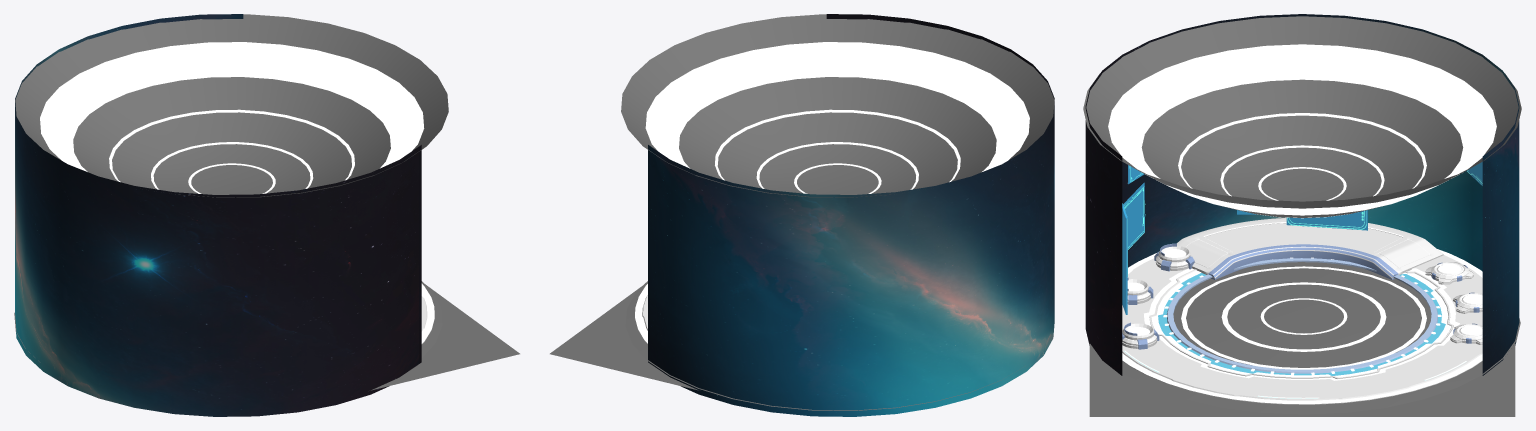
Rendered from hall.gltf.
3 renders of one model, left to right at view 1: azimuth 30°, elevation 25°; view 2: azimuth 150°, elevation 25°; view 3: azimuth 270°, elevation 25°, orthographic.
Parts seen in each view (by area): view 1: 柱体.004, 柱体.005, 柱体, 柱体.006, FloorTile_Side; view 2: 柱体.004, 柱体.005, 柱体, 柱体.006, FloorTile_Side; view 3: 柱体.005, 柱体.004, 柱体.006, FloorTile_Side, KB3D_HTS_BldgMD_E_Main, 柱体, KB3D_HTS_BldgLG_C_HoloProjectorD.011, KB3D_HTS_BldgLG_C_HoloProjectorD.003, Props_Pod.001, Props_Pod.003, Props_Base, KB3D_HTS_BldgSM_I_HoloA.001 (+3 smaller).
Boxes of the visible parts, <box> form: 柱体.004: <box>15,14,421,416</box>; 柱体.005: <box>15,14,448,197</box>; 柱体: <box>371,285,519,390</box>; 柱体.006: <box>14,281,442,362</box>; FloorTile_Side: <box>421,283,434,344</box>; 柱体.004: <box>648,14,1054,416</box>; 柱体.005: <box>621,14,1054,197</box>; 柱体: <box>550,286,698,390</box>; 柱体.006: <box>625,281,1016,410</box>; FloorTile_Side: <box>635,284,647,343</box>; 柱体.005: <box>1083,16,1521,218</box>; 柱体.004: <box>1085,14,1519,375</box>; 柱体.006: <box>1122,262,1520,414</box>; FloorTile_Side: <box>1122,249,1482,404</box>; KB3D_HTS_BldgMD_E_Main: <box>1177,218,1443,279</box>; 柱体: <box>1089,343,1515,416</box>; KB3D_HTS_BldgLG_C_HoloProjectorD.011: <box>1286,210,1367,230</box>; KB3D_HTS_BldgLG_C_HoloProjectorD.003: <box>1123,182,1145,249</box>; Props_Pod.001: <box>1154,243,1194,271</box>; Props_Pod.003: <box>1122,322,1159,349</box>; Props_Base: <box>1425,262,1473,284</box>; KB3D_HTS_BldgSM_I_HoloA.001: <box>1122,203,1127,314</box>.
Bounding box in the file's own units: 15.65 × 8.81 × 15.63.
23 materials, 6 textured.
